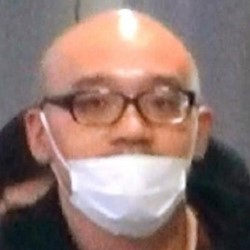mask: (57, 146, 191, 237)
